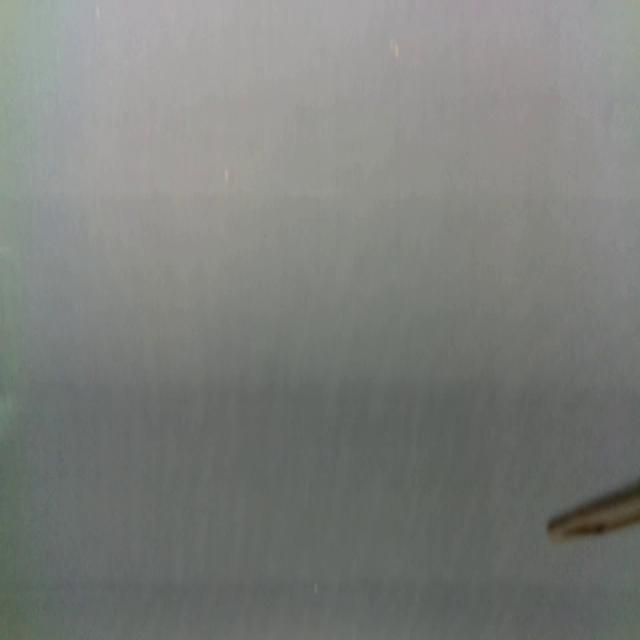hole: (388, 36, 402, 64), (222, 167, 232, 189), (93, 5, 102, 25), (312, 578, 320, 598)
